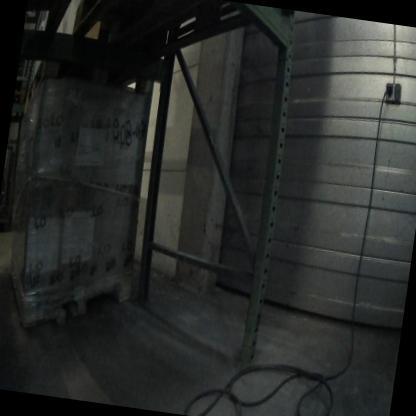pallet: (56, 0, 296, 94), (0, 249, 142, 345), (11, 86, 26, 124)
stillage: (0, 144, 18, 216), (17, 35, 40, 87)
